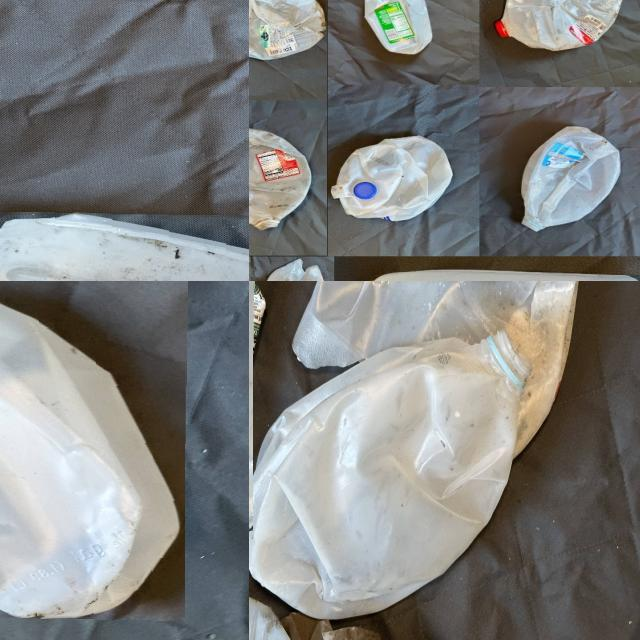milk-jug: (249, 341, 556, 619), (0, 281, 186, 618), (290, 281, 579, 459), (0, 210, 249, 281), (338, 134, 452, 226), (524, 125, 624, 229), (249, 125, 317, 233), (497, 0, 621, 53), (249, 0, 320, 62), (360, 0, 436, 56), (256, 261, 330, 281)
